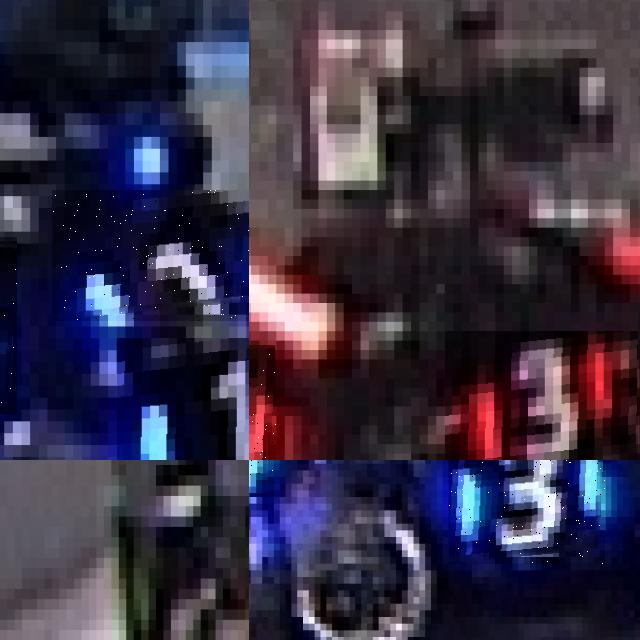B1: (51, 190, 249, 320), (116, 338, 249, 460)
B3: (448, 460, 605, 563)
R3: (444, 331, 638, 460)
